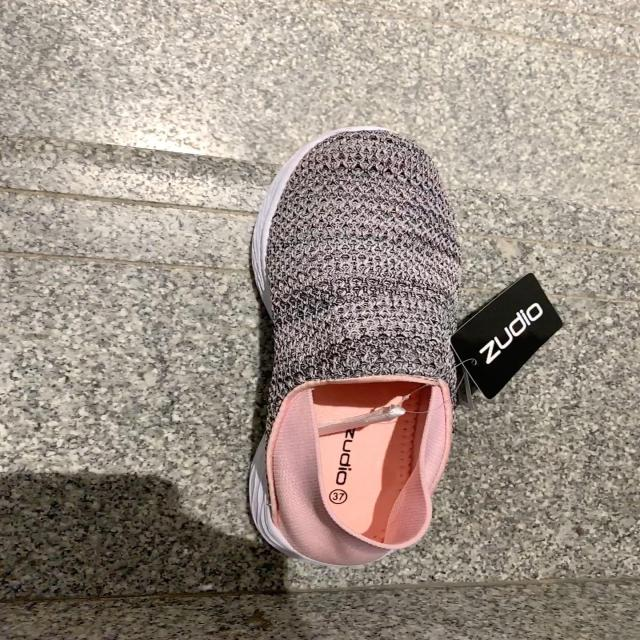shoe: (245, 128, 462, 569)
